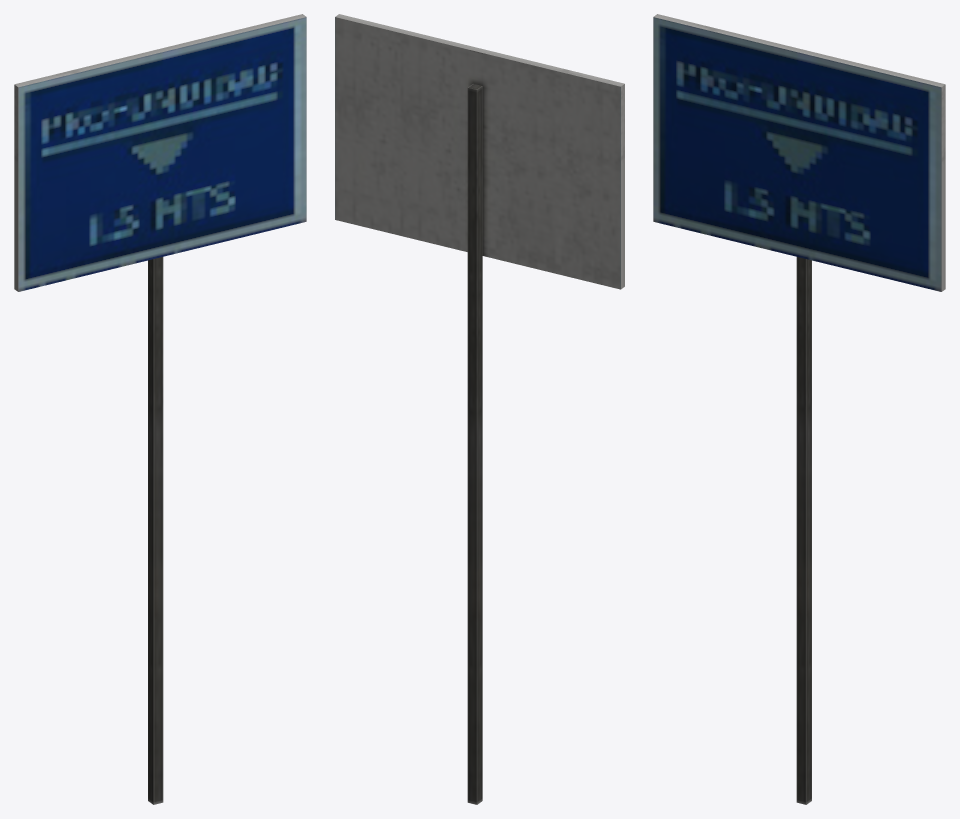
The model's file is Sign10.obj.
3 views of the same model, side by side, from view 1: azimuth 30°, elevation 25°; view 2: azimuth 150°, elevation 25°; view 3: azimuth 330°, elevation 25° (orthographic).
Parts seen in each view (by area): view 1: Sign10; view 2: Sign10; view 3: Sign10.
Boxes of the visible parts, left/top/right/bottom form: Sign10: left=14, top=14, right=306, bottom=804; Sign10: left=335, top=14, right=624, bottom=804; Sign10: left=653, top=14, right=945, bottom=804.
Bounding box in the file's own units: 1.2 × 3 × 0.07.
